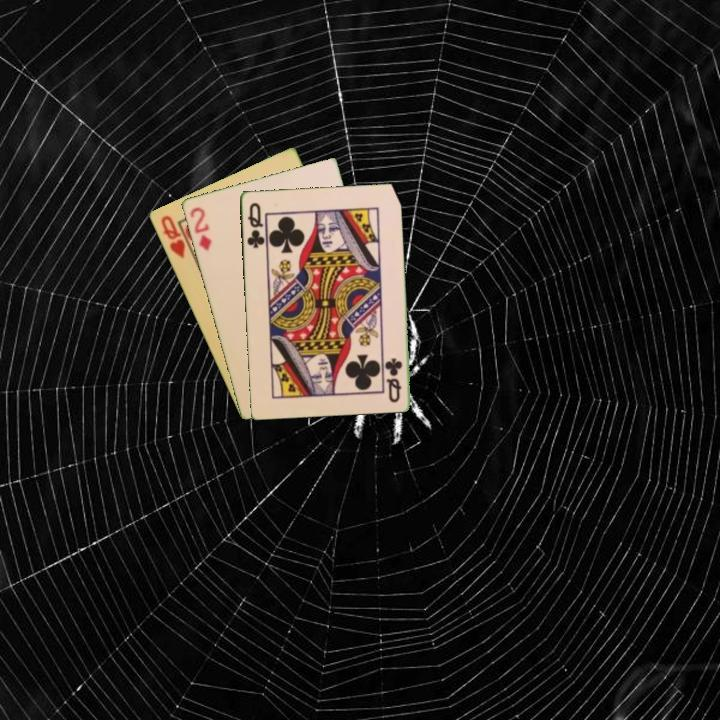2d: (186, 203, 214, 253)
Qc: (243, 199, 267, 251), (383, 354, 405, 405)
Qh: (157, 212, 188, 261)
